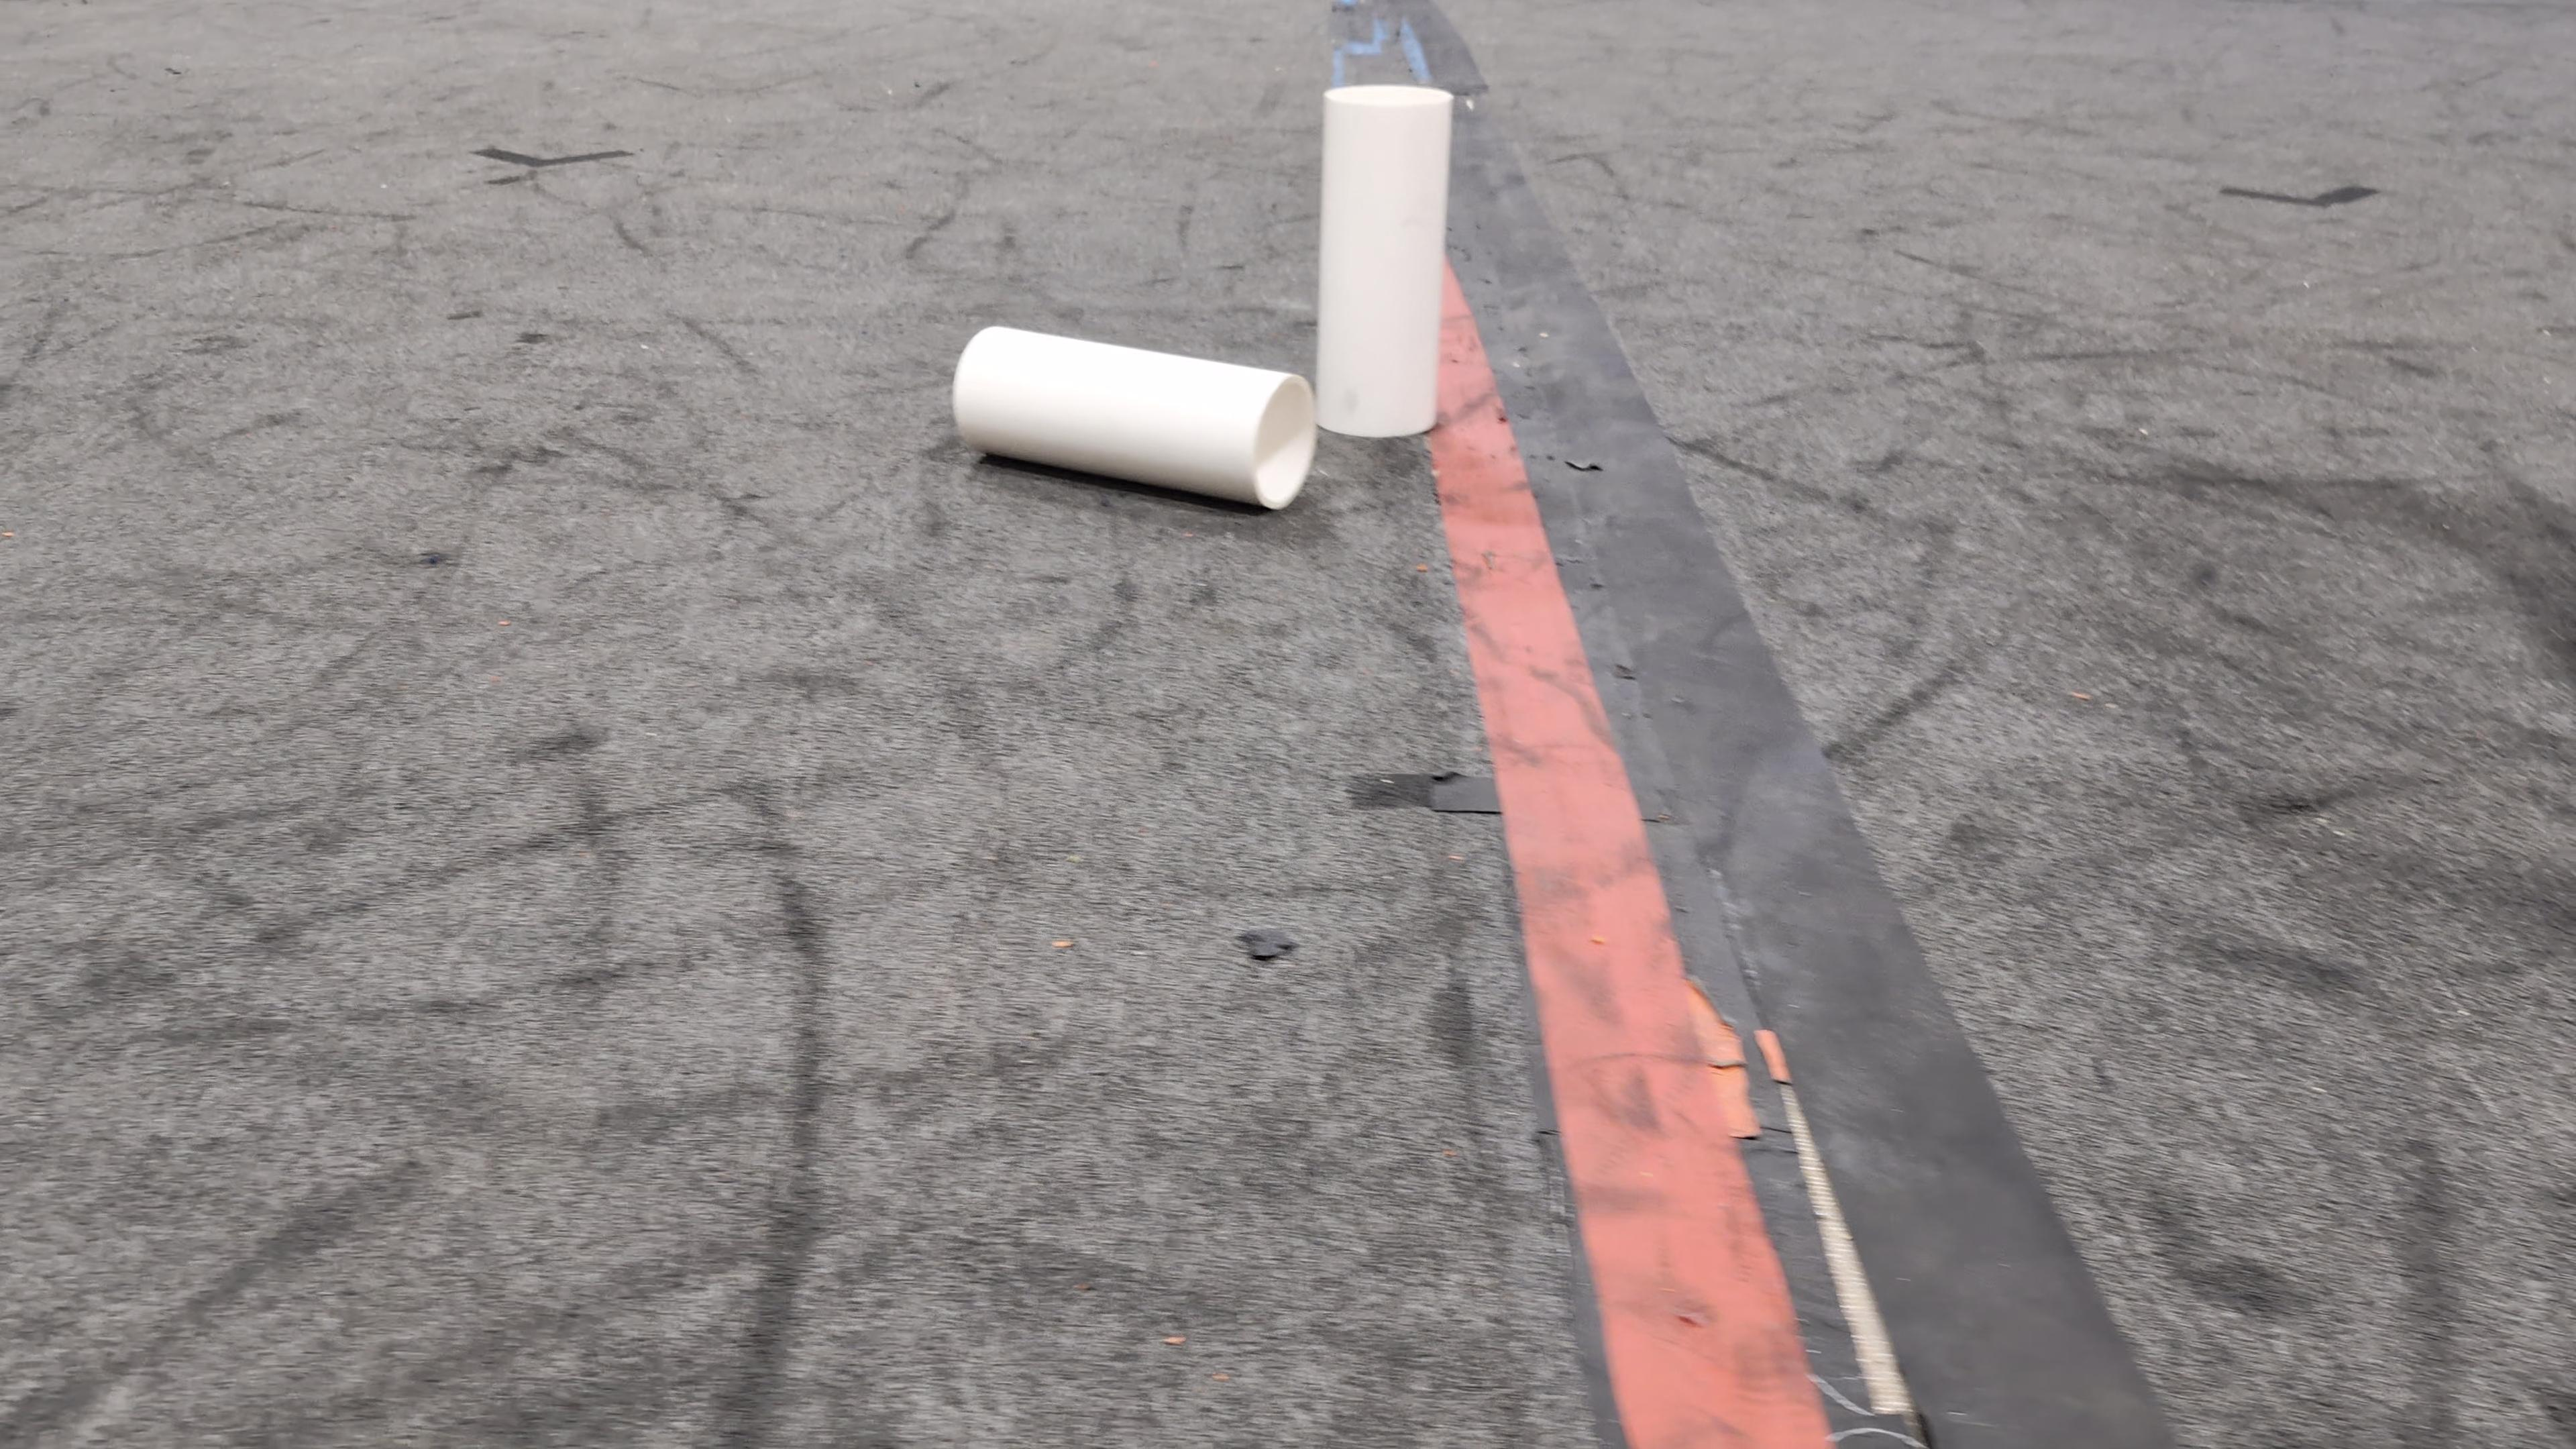coral: (950, 322, 1318, 508), (1311, 80, 1461, 441)
